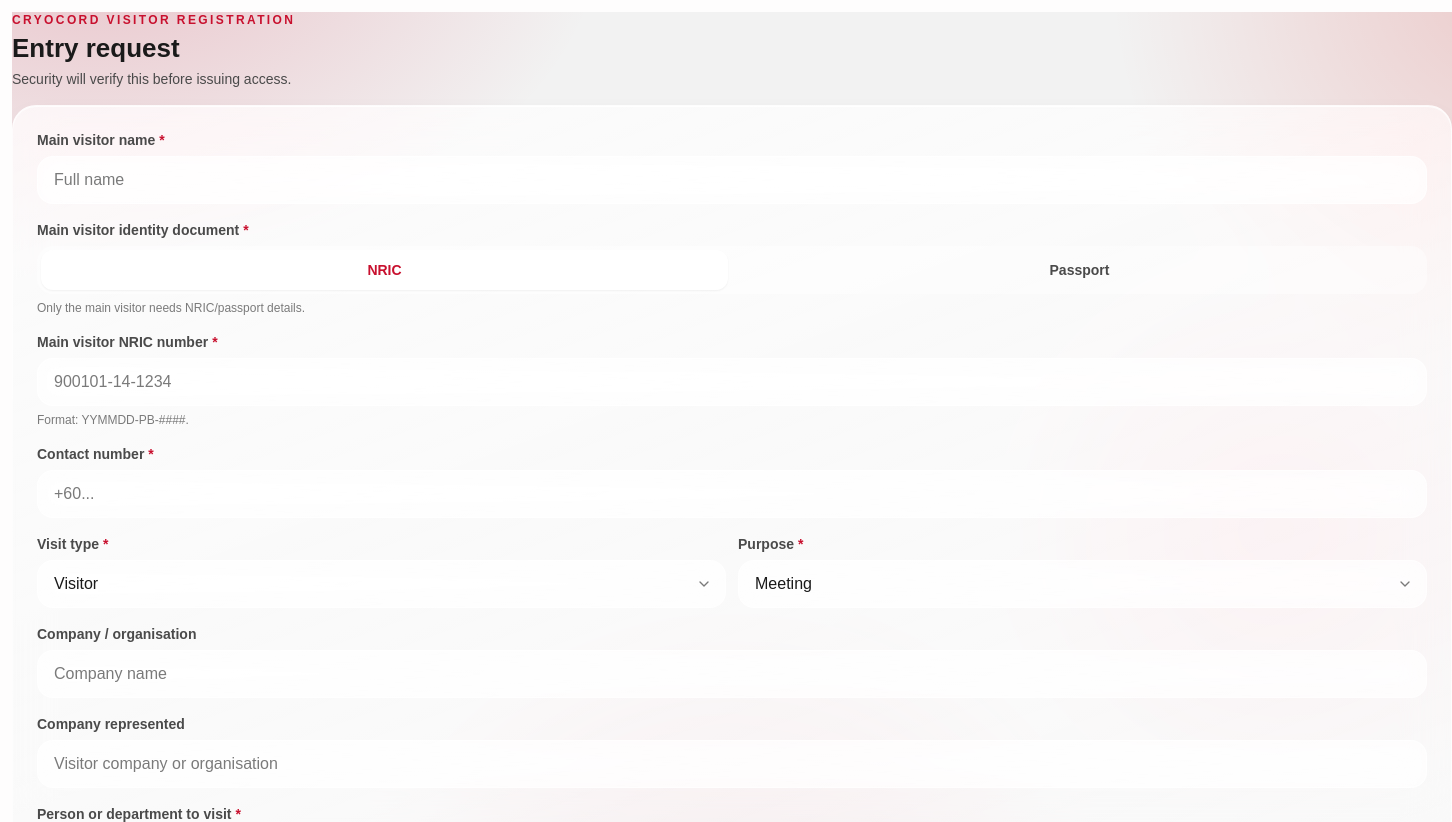
PublicVisitorRequestForm › sets purpose to Delivery when Courier is selected
Select "Courier" in the dropdown labelled "Visit type *" at (382, 584), box [37, 560, 726, 608]
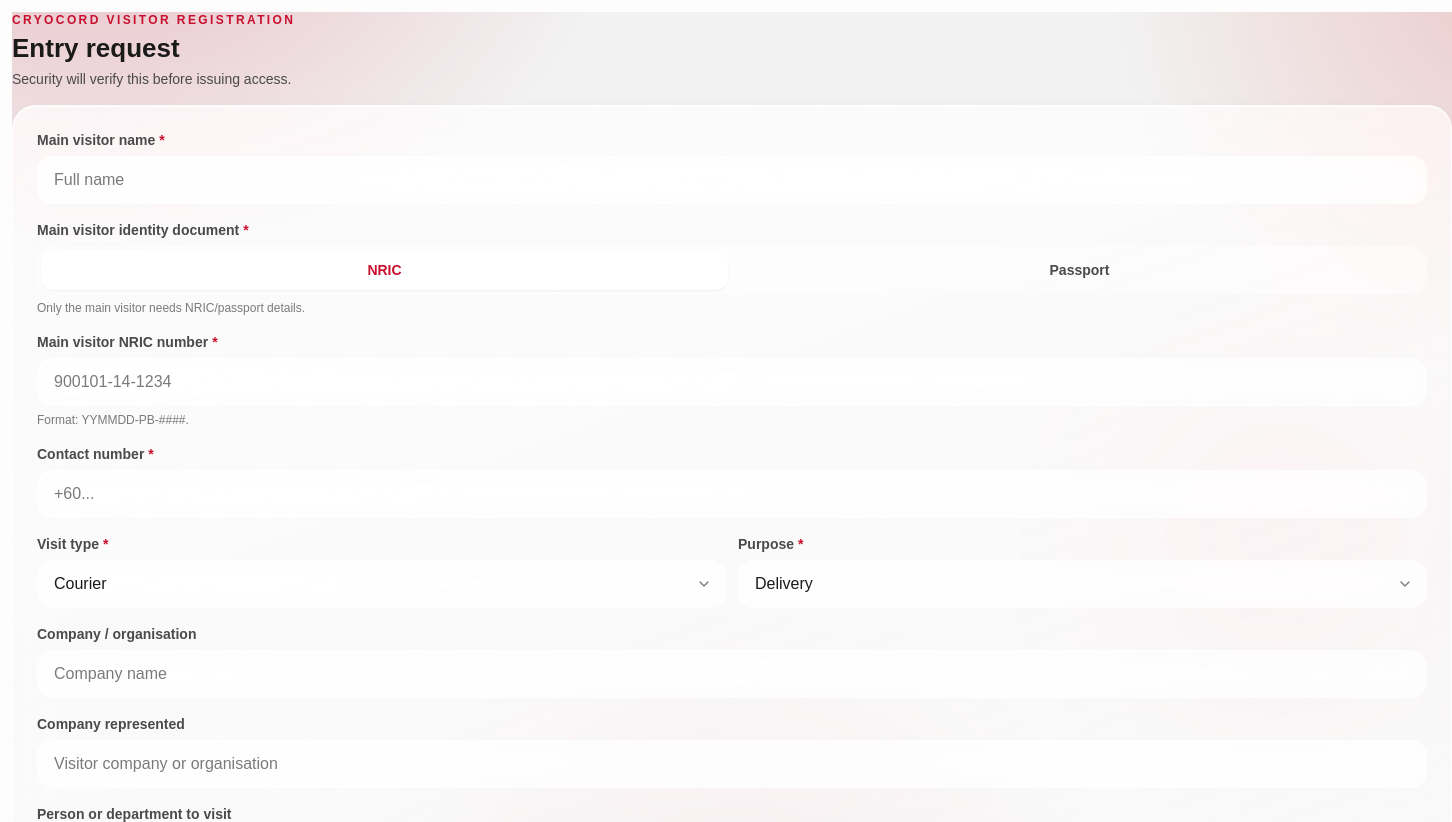
Expected: the dropdown labelled "Purpose *" is enabled, [738, 560, 1427, 608]
Expected: the dropdown labelled "Purpose *" shows "Delivery", [738, 560, 1427, 608]
